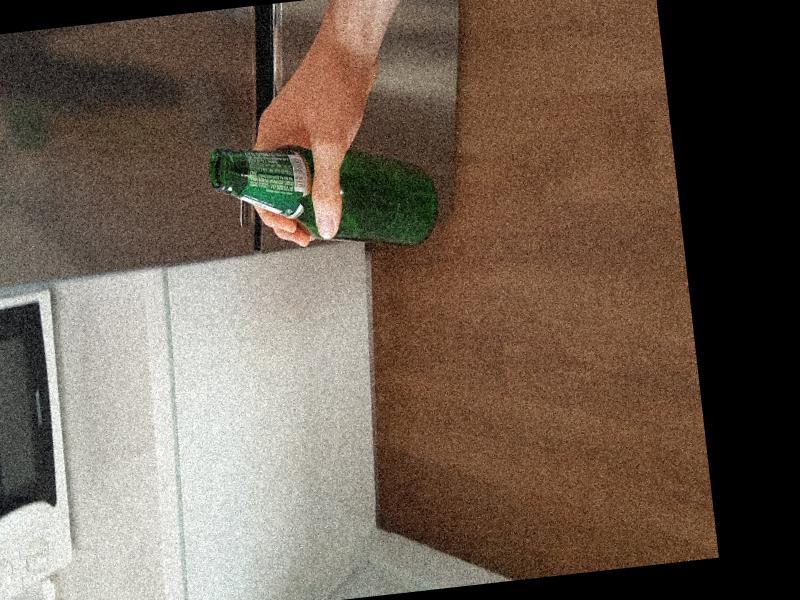Beer: (206, 125, 443, 265)
